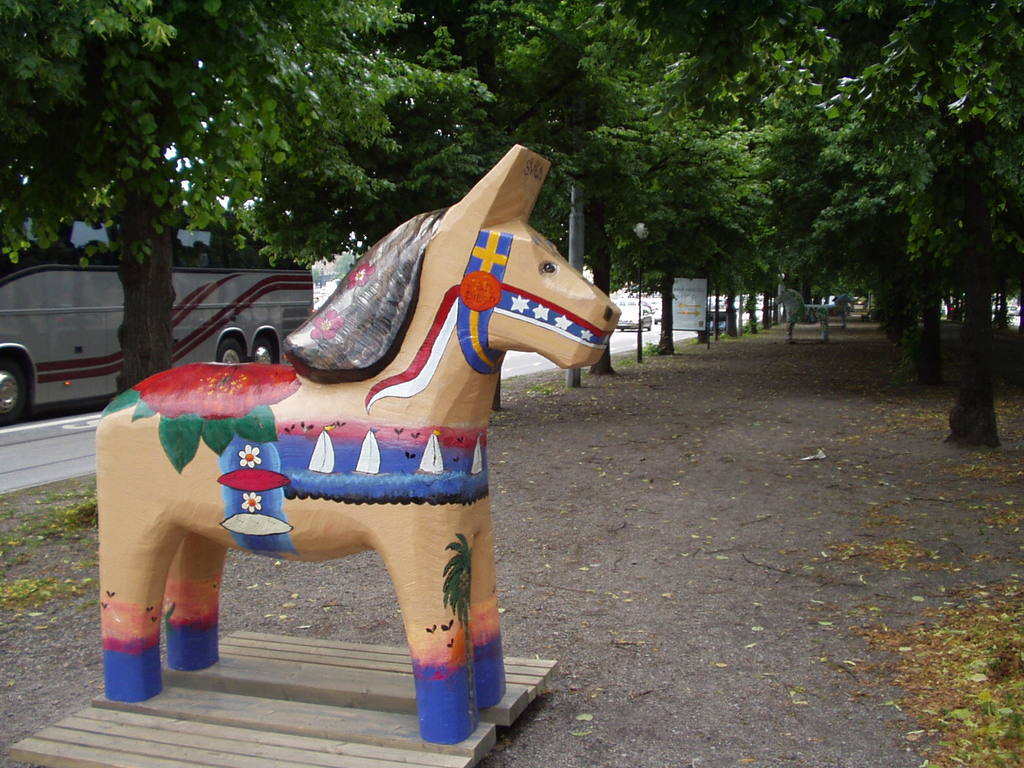Horse: (96, 144, 622, 746)
